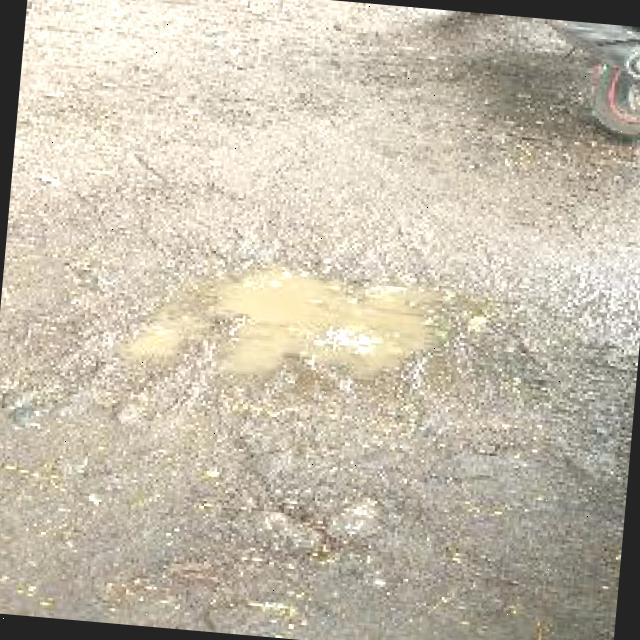stagnation: (94, 230, 457, 402)
